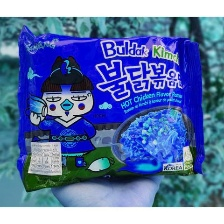snack: (7, 20, 211, 195)
